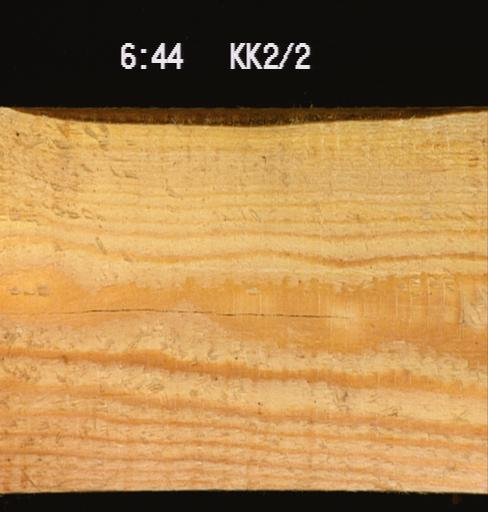split: (64, 307, 353, 320)
wave: (12, 105, 487, 126)
